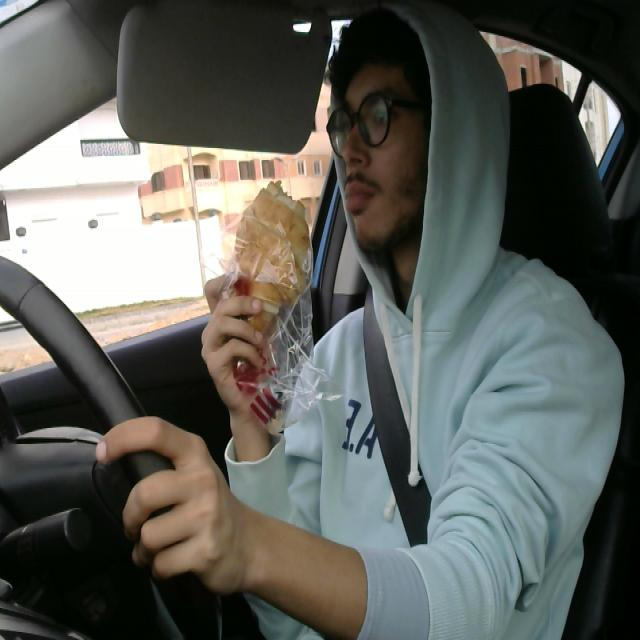eating: (228, 172, 324, 332)
